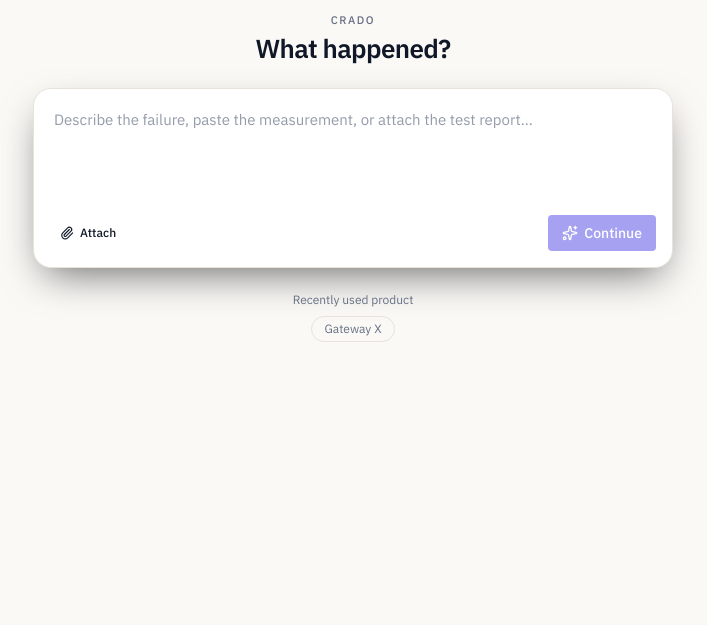
it: IntakeComposer — product fact extraction (FIX-02 Defect 2) › shows an extracted clock fact as an editable, removable row on the confirmation panel
Replace the text in the text box with placeholder "Describe the failure" with "Gateway X Rev17 failed at 200 MHz. 40 MHz system clock." at (353, 154), box [50,105,656,203]
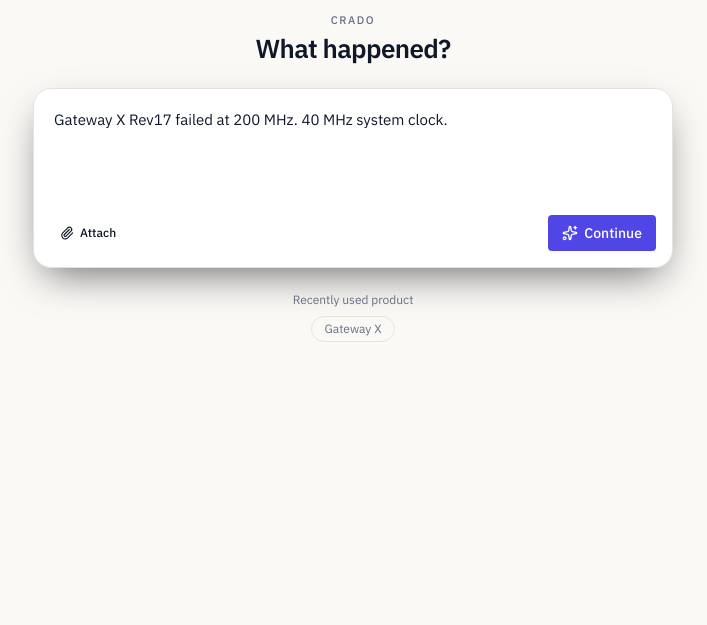
Click the button "Continue".
click(602, 233)  # box [548,215,656,251]
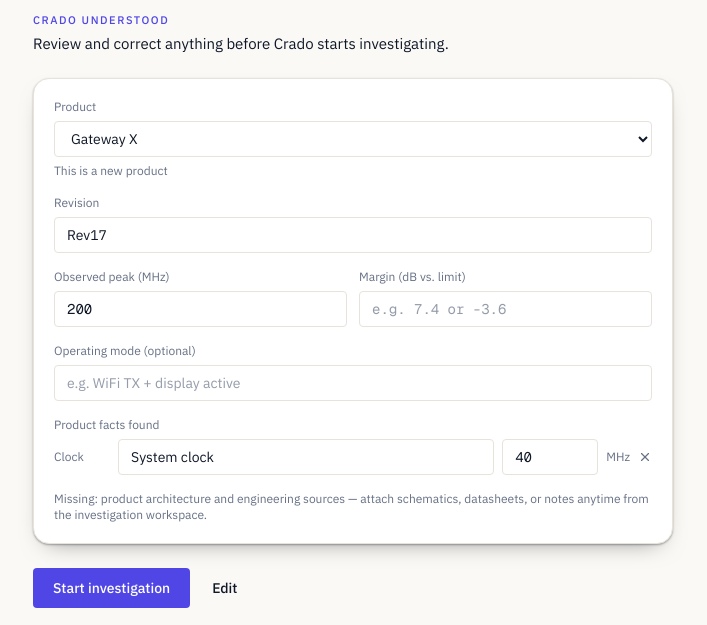
Now the field showing "System clock" is shown, box [118,439,494,475]
Now the number field named "Fact 1 frequency in MHz" holds "40", box [502,439,598,475]
Now the button named "Remove fact 1" is shown, box [638,450,652,464]
